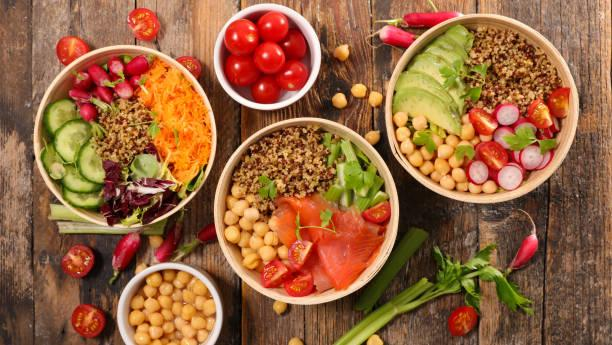Braised Crucian Carp: (385, 13, 575, 205), (213, 117, 393, 306), (32, 45, 211, 231)
